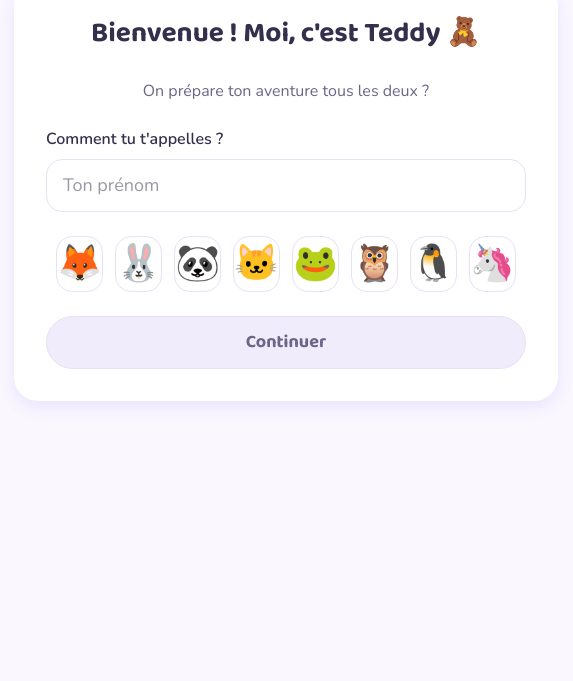
Test: OnboardingFlow — gating par étape (affordance client) › code enfant : suivant désactivé tant que < 4 chiffres
Type "Léa" into the field at (286, 186), box [46, 159, 526, 212]
Click the button named "Portrait renard" at (80, 264), box [56, 236, 103, 292]
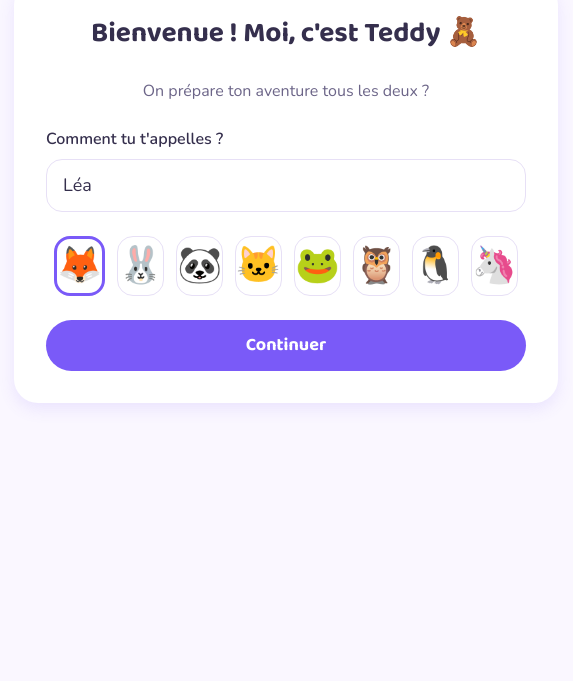
Click the button "Continuer" at (286, 346), box [46, 320, 526, 371]
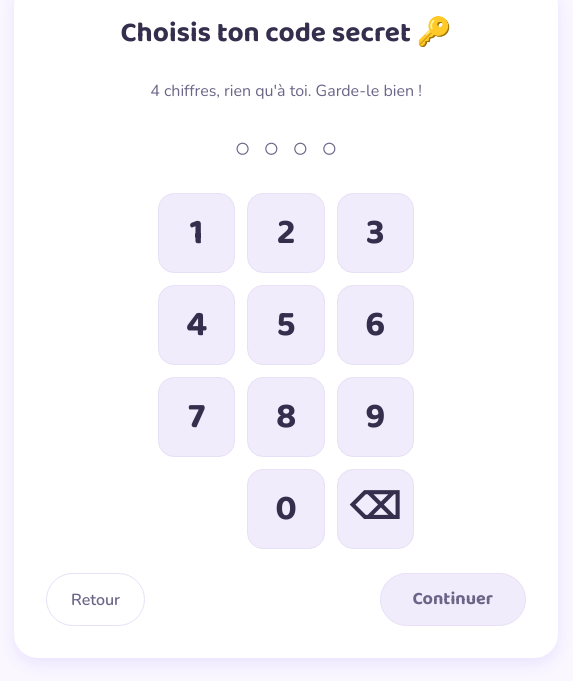
Result: the button "Continuer" is disabled at [380, 573, 526, 626]
Click the button "1" at (197, 233), box [158, 193, 235, 273]
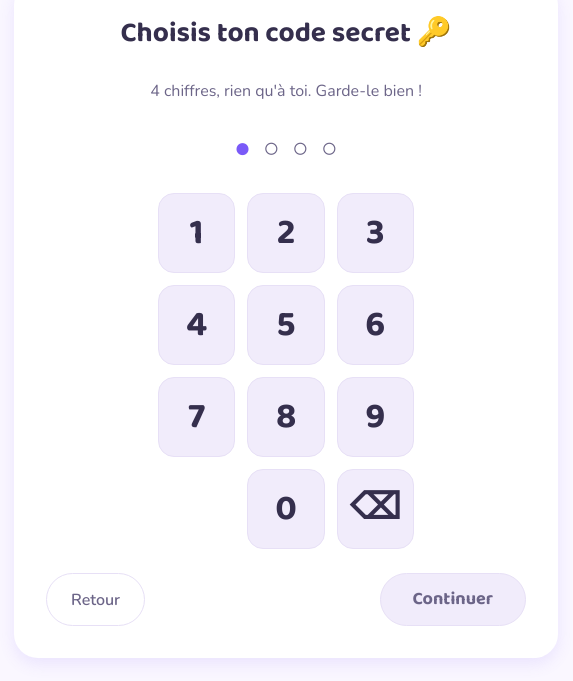
Click the button "2" at (286, 233), box [247, 193, 325, 273]
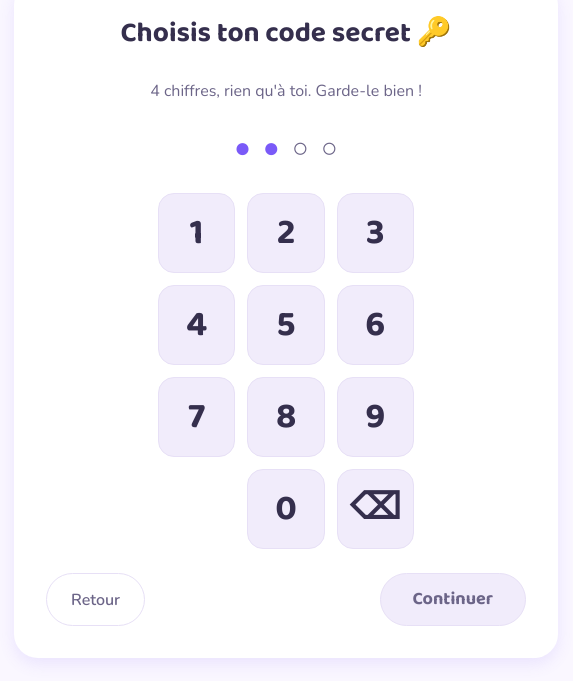
Click the button "3" at (375, 233), box [337, 193, 414, 273]
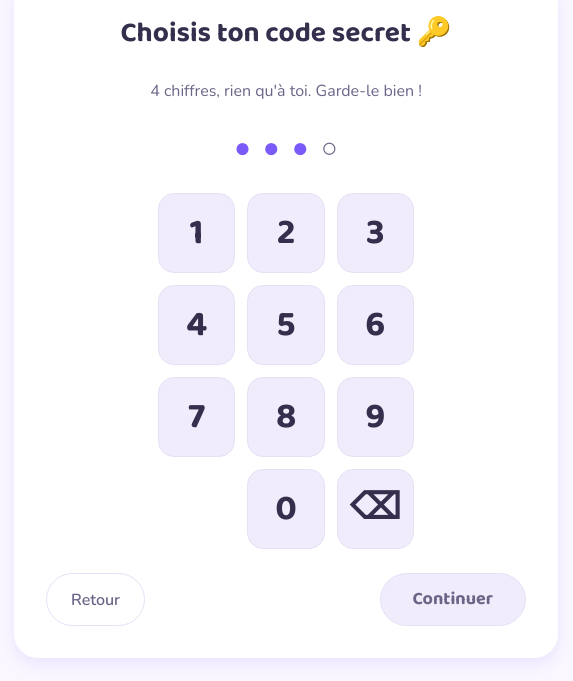
Result: the button "Continuer" is disabled at [380, 573, 526, 626]
Click the button "4" at (197, 325), box [158, 285, 235, 365]
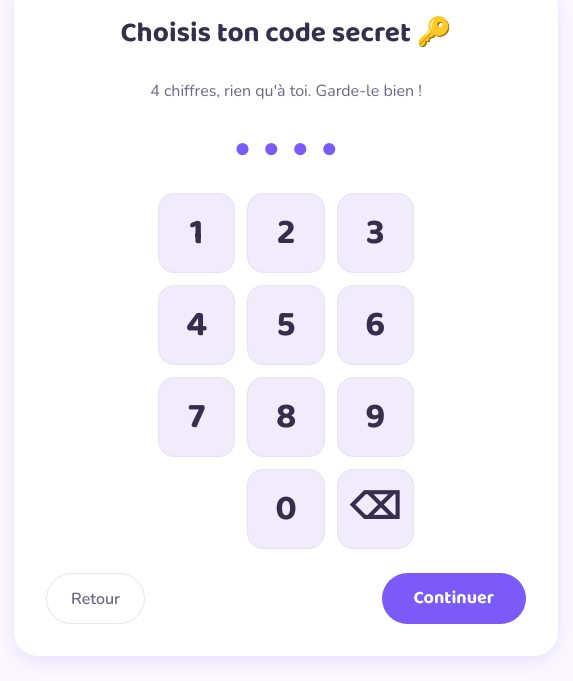
Result: the button "Continuer" is enabled at [382, 573, 526, 624]
